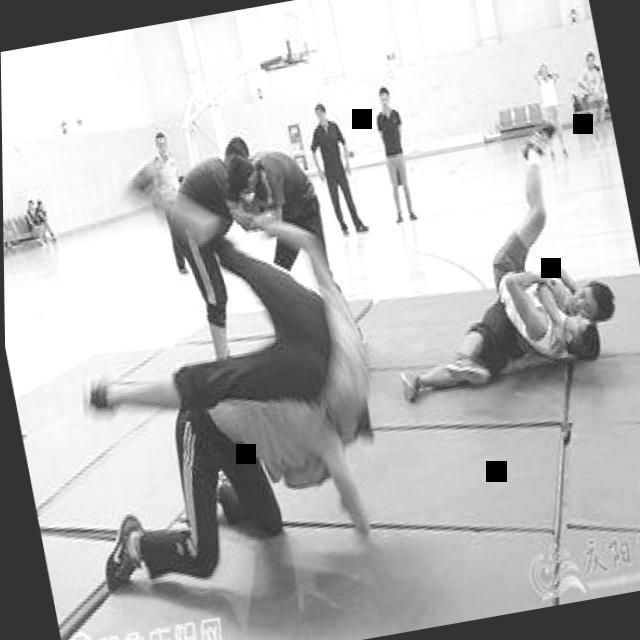Fall-Detected: (56, 194, 375, 471)
